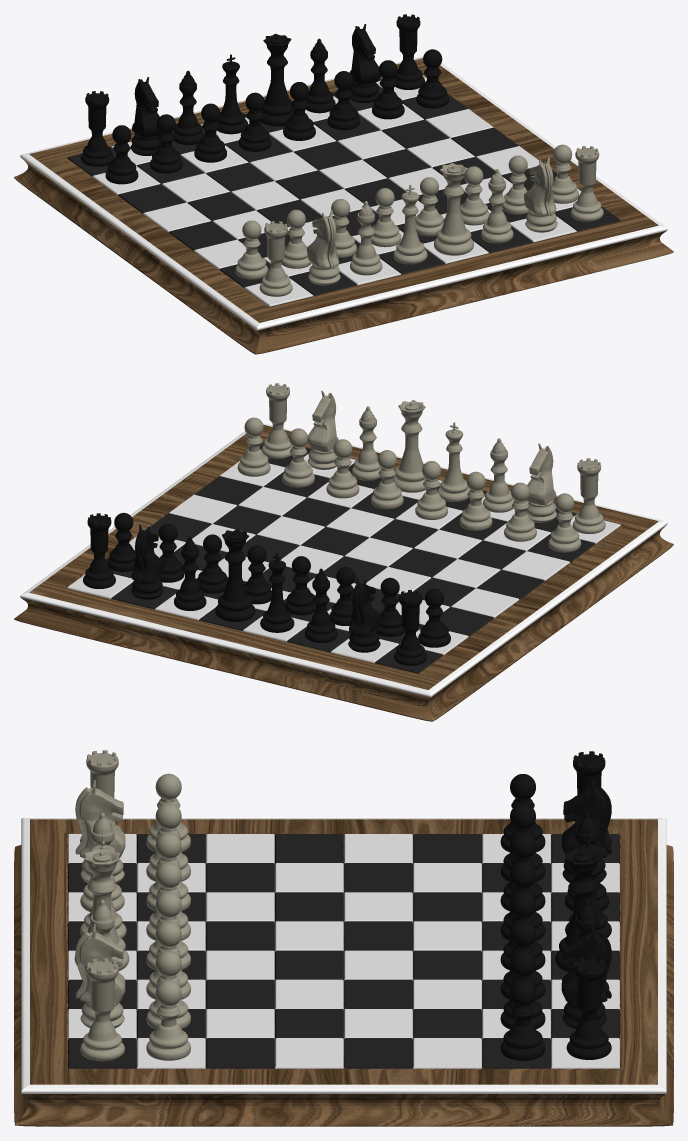
Rendered from chess-set.glb.
3 views of the same model, one above another, from view 1: azimuth 30°, elevation 25°; view 2: azimuth 150°, elevation 25°; view 3: azimuth 270°, elevation 25° (orthographic). The views are drawn at different scales.
Parts seen in each view (by area): view 1: Plane, Cube, Plane.001, Plane.002, pPlane13, pPlane13.001, pPlane13.004, pPlane13.003, Black chess side.014, White chess side.011, White chess side.012, Black chess side.015 (+22 smaller); view 2: Plane, Cube, Plane.002, Plane.001, pPlane13.004, pPlane13.003, pPlane13, pPlane13.001, Black chess side.014, Black chess side.015, White chess side.012, White chess side.011 (+22 smaller); view 3: Plane, Cube, White chess side.011, Black chess side.015, pPlane13.001, pPlane13, pPlane13.003, pPlane13.004, White chess side.010, Black chess side, Plane.002, Plane.001 (+22 smaller).
Boxes of the visible parts, bbox=[...] form: Plane: bbox=[67, 75, 620, 306]; Cube: bbox=[14, 56, 673, 354]; Plane.001: bbox=[434, 163, 473, 255]; Plane.002: bbox=[260, 33, 293, 126]; pPlane13: bbox=[524, 157, 557, 232]; pPlane13.001: bbox=[307, 210, 340, 285]; pPlane13.004: bbox=[349, 24, 380, 102]; pPlane13.003: bbox=[130, 77, 160, 155]; Black chess side.014: bbox=[80, 91, 113, 166]; White chess side.011: bbox=[570, 146, 603, 221]; White chess side.012: bbox=[259, 221, 292, 296]; Black chess side.015: bbox=[394, 14, 424, 89]; Plane: bbox=[67, 443, 620, 673]; Cube: bbox=[14, 423, 673, 721]; Plane.002: bbox=[215, 529, 255, 621]; Plane.001: bbox=[393, 400, 425, 492]; pPlane13.004: bbox=[131, 525, 164, 599]; pPlane13.003: bbox=[348, 577, 381, 652]; pPlane13: bbox=[307, 390, 338, 469]; pPlane13.001: bbox=[526, 443, 556, 522]; Black chess side.014: bbox=[394, 590, 426, 665]; Black chess side.015: bbox=[83, 513, 115, 588]; White chess side.012: bbox=[572, 458, 605, 534]; White chess side.011: bbox=[261, 383, 292, 458]; Plane: bbox=[68, 834, 619, 1068]; Cube: bbox=[14, 818, 673, 1126]; White chess side.011: bbox=[80, 958, 124, 1061]; Black chess side.015: bbox=[566, 956, 611, 1059]; pPlane13.001: bbox=[75, 780, 125, 883]; pPlane13: bbox=[75, 924, 125, 1028]; pPlane13.003: bbox=[561, 779, 611, 882]; pPlane13.004: bbox=[561, 923, 611, 1028]; White chess side.010: bbox=[146, 980, 190, 1060]; Black chess side: bbox=[500, 980, 545, 1060]; Plane.002: bbox=[555, 848, 600, 972]; Plane.001: bbox=[74, 848, 129, 970].
Size of the model in its own units: 18.97 by 4.77 by 18.97.
Materials: 6 (1 with a texture image).
